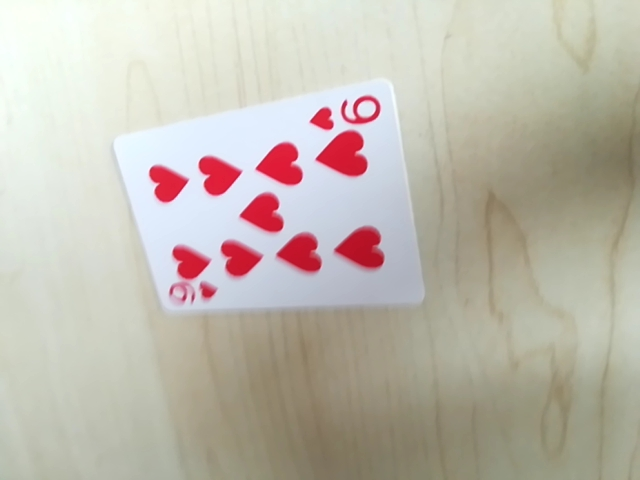hx 9: (306, 88, 390, 134), (163, 281, 221, 314)
